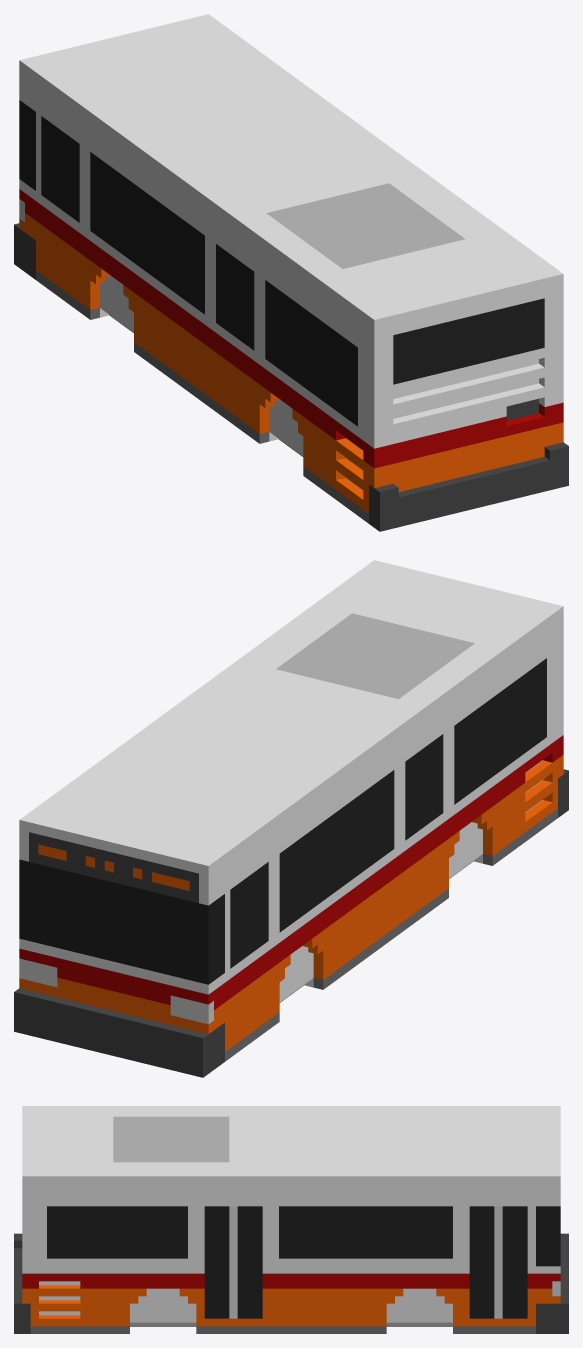
Rendered from bus2.obj.
The picture shows the model from 3 angles, top to bottom: view 1: azimuth 30°, elevation 25°; view 2: azimuth 150°, elevation 25°; view 3: azimuth 270°, elevation 25°; orthographic projection. The views are drawn at different scales.
Size of the model in its own units: 2 by 2.1 by 6.7.
Materials: 1 (1 with a texture image).
